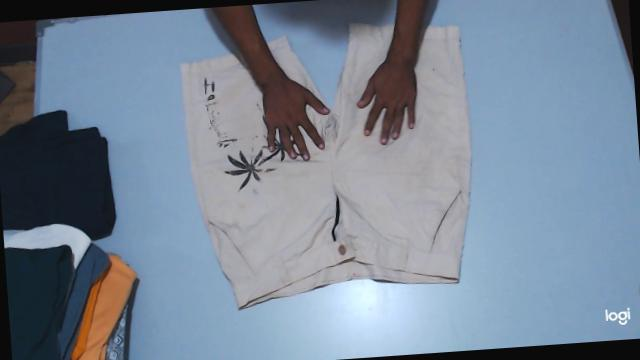new-garment: (180, 4, 471, 307), (180, 24, 470, 308), (267, 37, 322, 98)
